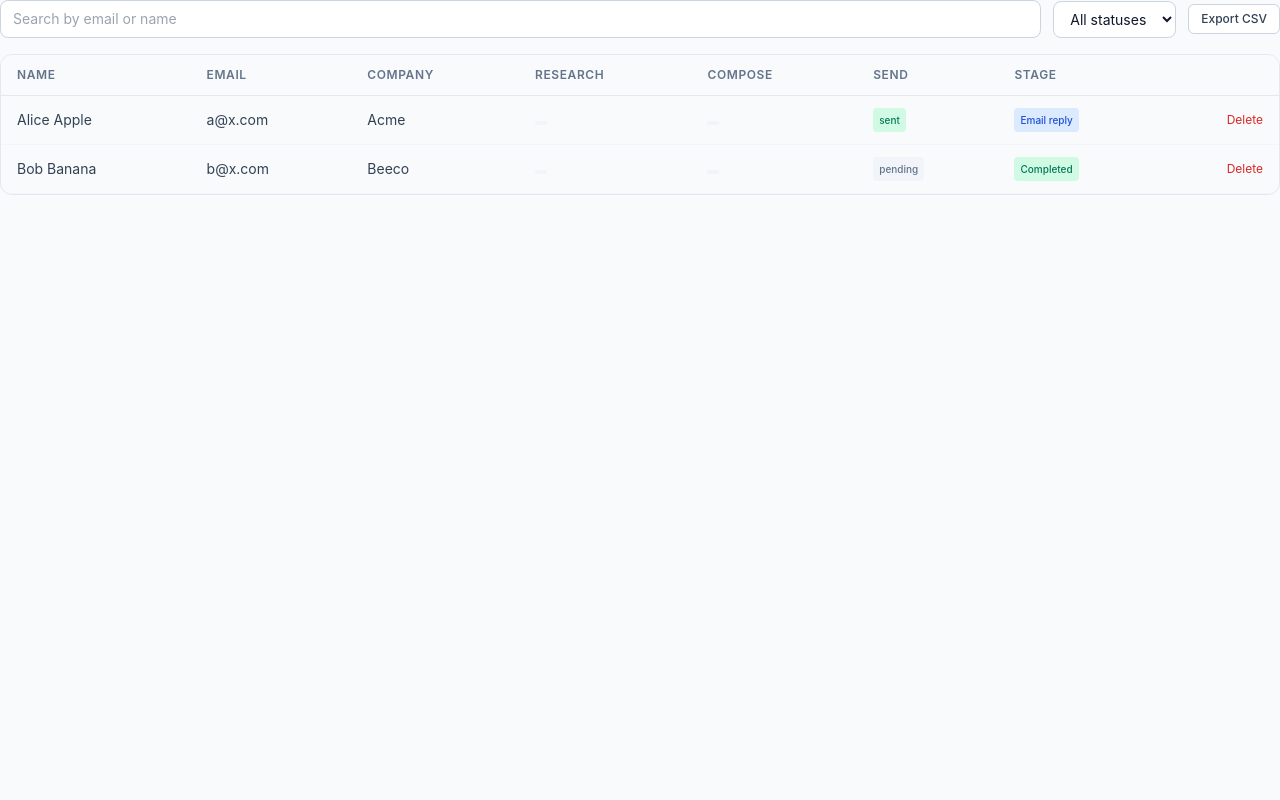
LeadTable › Delete button opens a confirmation modal
Check: the text "Alice Apple" is shown, box [1, 96, 191, 144]
Click the button with test id "delete-lead-l1". click: (1245, 120)
box: [1227, 112, 1263, 128]
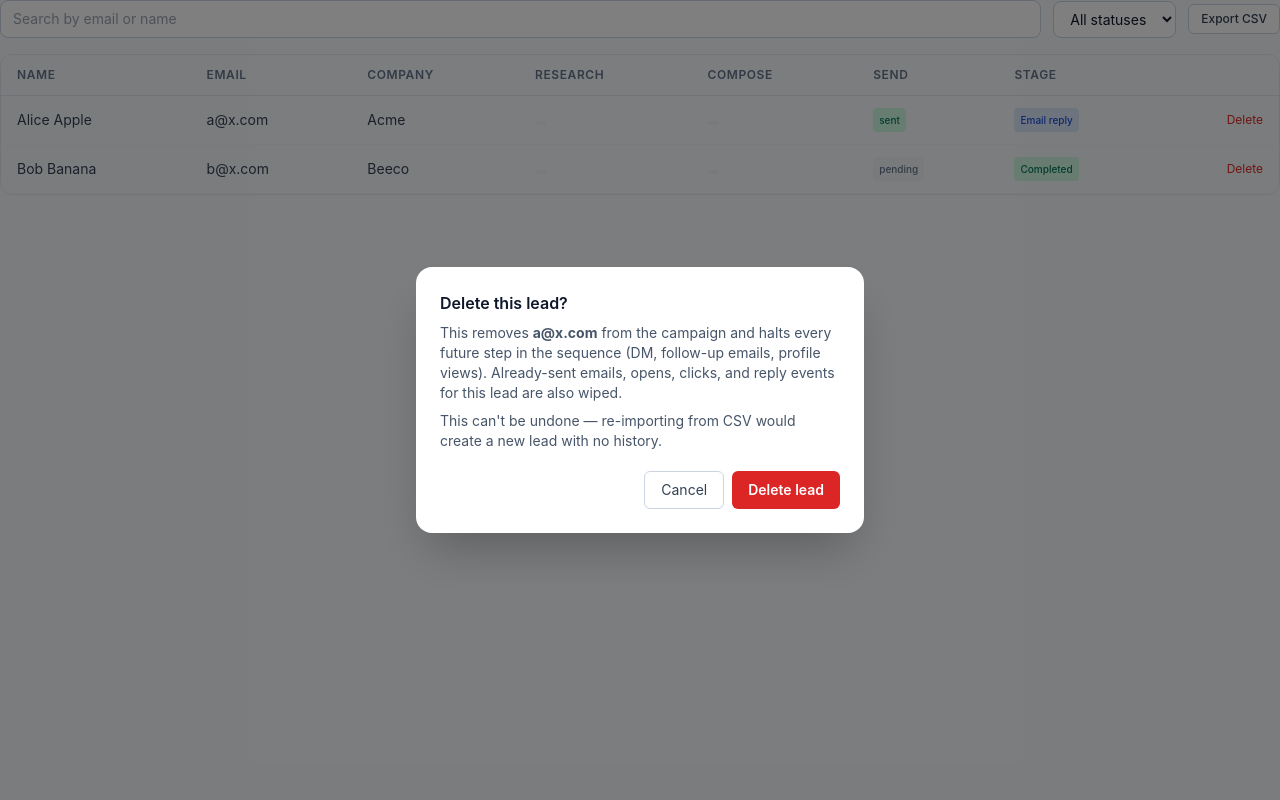
Check: the text "halts every future step" is shown, box [440, 324, 834, 401]
Check: the element with test id "delete-lead-modal" shows "a@x.com", box [533, 324, 598, 341]
